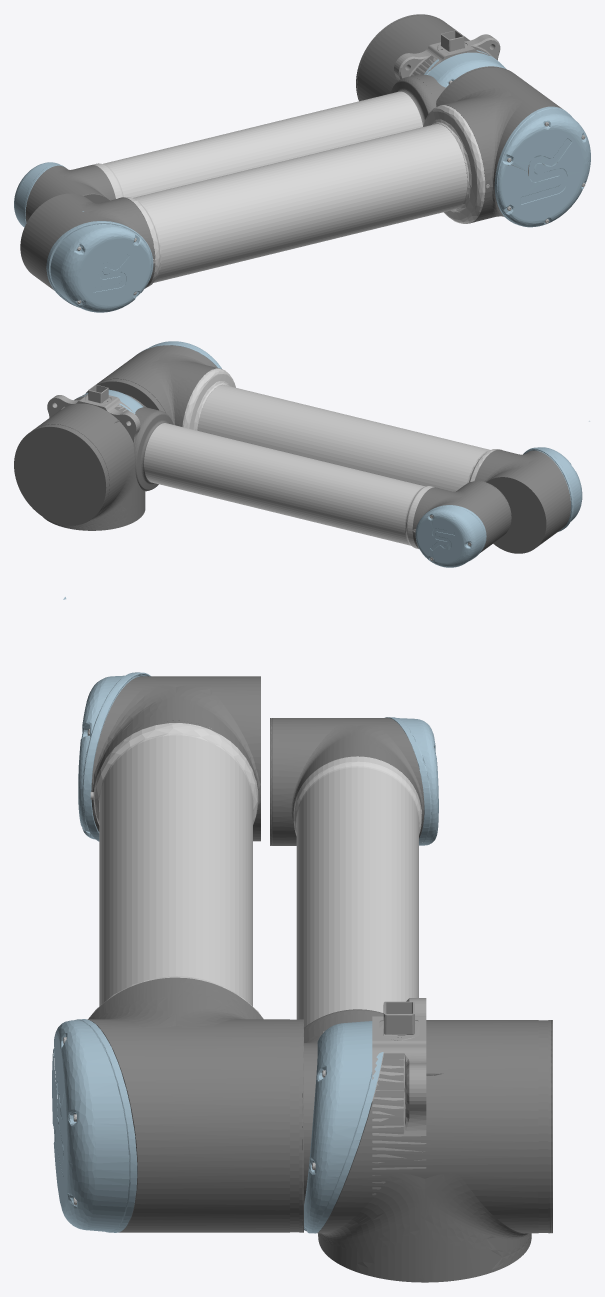
The picture shows the model from 3 angles, top to bottom: view 1: azimuth 30°, elevation 25°; view 2: azimuth 150°, elevation 25°; view 3: azimuth 270°, elevation 25°; orthographic projection. The views are drawn at different scales.
Parts seen in each view (by area): view 1: upperarm, forearm, shoulder, base; view 2: upperarm, forearm, shoulder, base; view 3: upperarm, shoulder, forearm, base.
Boxes of the visible parts, x1=… form: upperarm: x1=20, y1=66, x2=590, y2=312; forearm: x1=14, y1=74, x2=445, y2=227; shoulder: x1=356, y1=14, x2=506, y2=101; base: x1=394, y1=30, x2=500, y2=81; upperarm: x1=86, y1=341, x2=589, y2=553; forearm: x1=126, y1=394, x2=511, y2=567; shoulder: x1=14, y1=389, x2=145, y2=530; base: x1=47, y1=384, x2=140, y2=442; upperarm: x1=52, y1=597, x2=303, y2=1232; shoulder: x1=304, y1=1020, x2=552, y2=1282; forearm: x1=270, y1=717, x2=438, y2=1203; base: x1=372, y1=998, x2=426, y2=1195.
Bounding box in the file's own units: 0.7489 × 0.1876 × 0.3521.
Materials: 5 (3 with a texture image).
